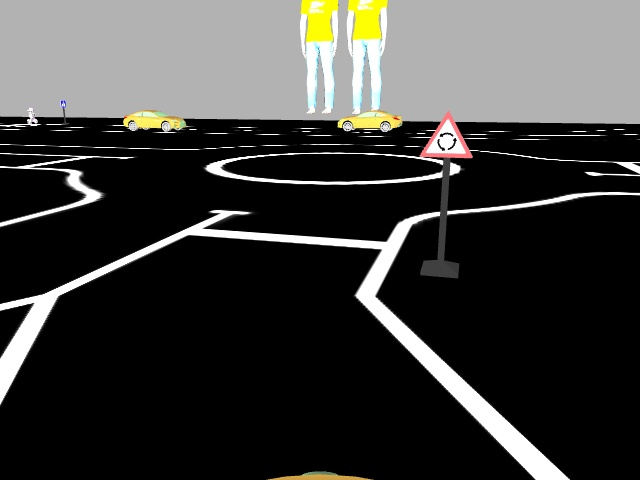Roundabout: (420, 108, 473, 159)
